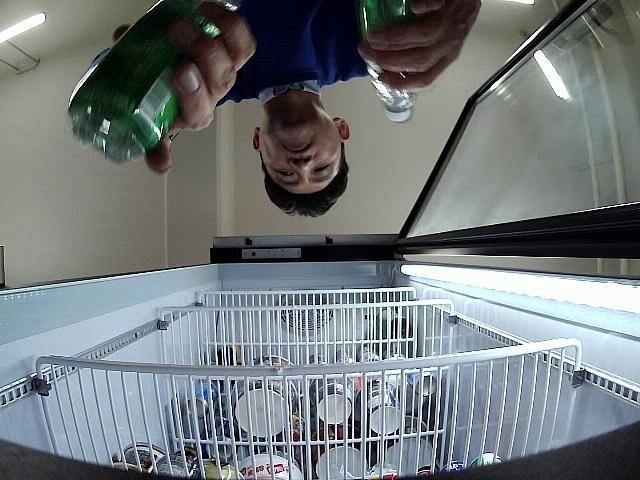18_trevi: (70, 0, 242, 165), (359, 1, 413, 123)
